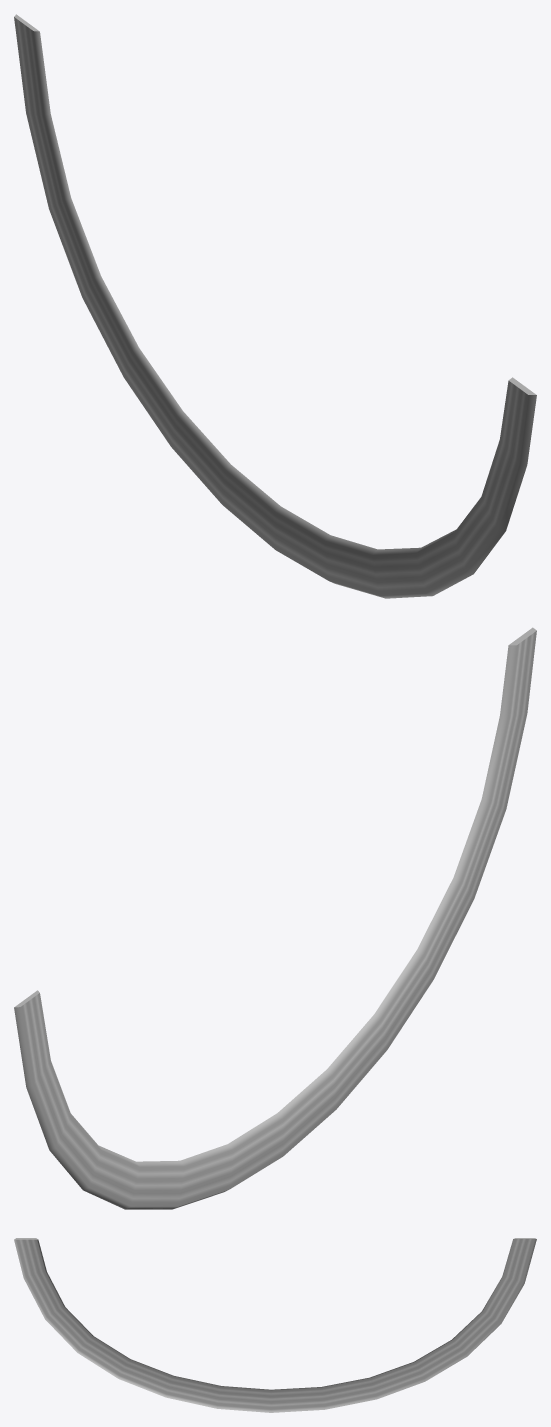
File: MB_Neon_Line_C_Angle.fbx
3 views of the same model, one above another, from view 1: azimuth 30°, elevation 25°; view 2: azimuth 150°, elevation 25°; view 3: azimuth 270°, elevation 25° (orthographic). The views are drawn at different scales.
Parts seen in each view (by area): view 1: MB_Neon_Line_C_Angle; view 2: MB_Neon_Line_C_Angle; view 3: MB_Neon_Line_C_Angle.
Boxes of the visible parts, x1=… form: MB_Neon_Line_C_Angle: x1=14, y1=14, x2=536, y2=598; MB_Neon_Line_C_Angle: x1=14, y1=627, x2=536, y2=1209; MB_Neon_Line_C_Angle: x1=14, y1=1238, x2=536, y2=1412.
Bounding box in the file's own units: 2.28 × 119 × 326.
